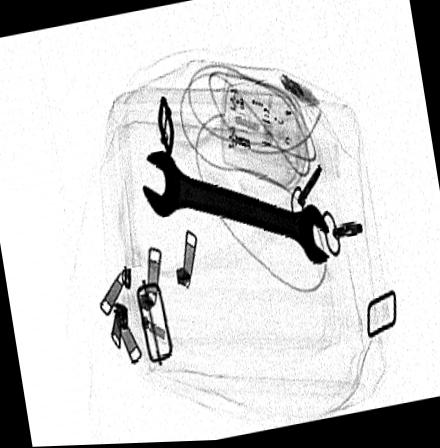Wrench: (144, 151, 333, 268)
